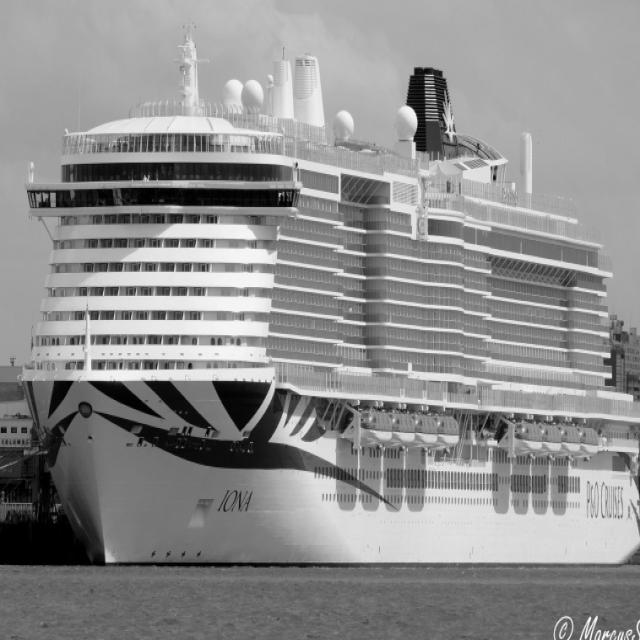cruises: (18, 18, 640, 581)
